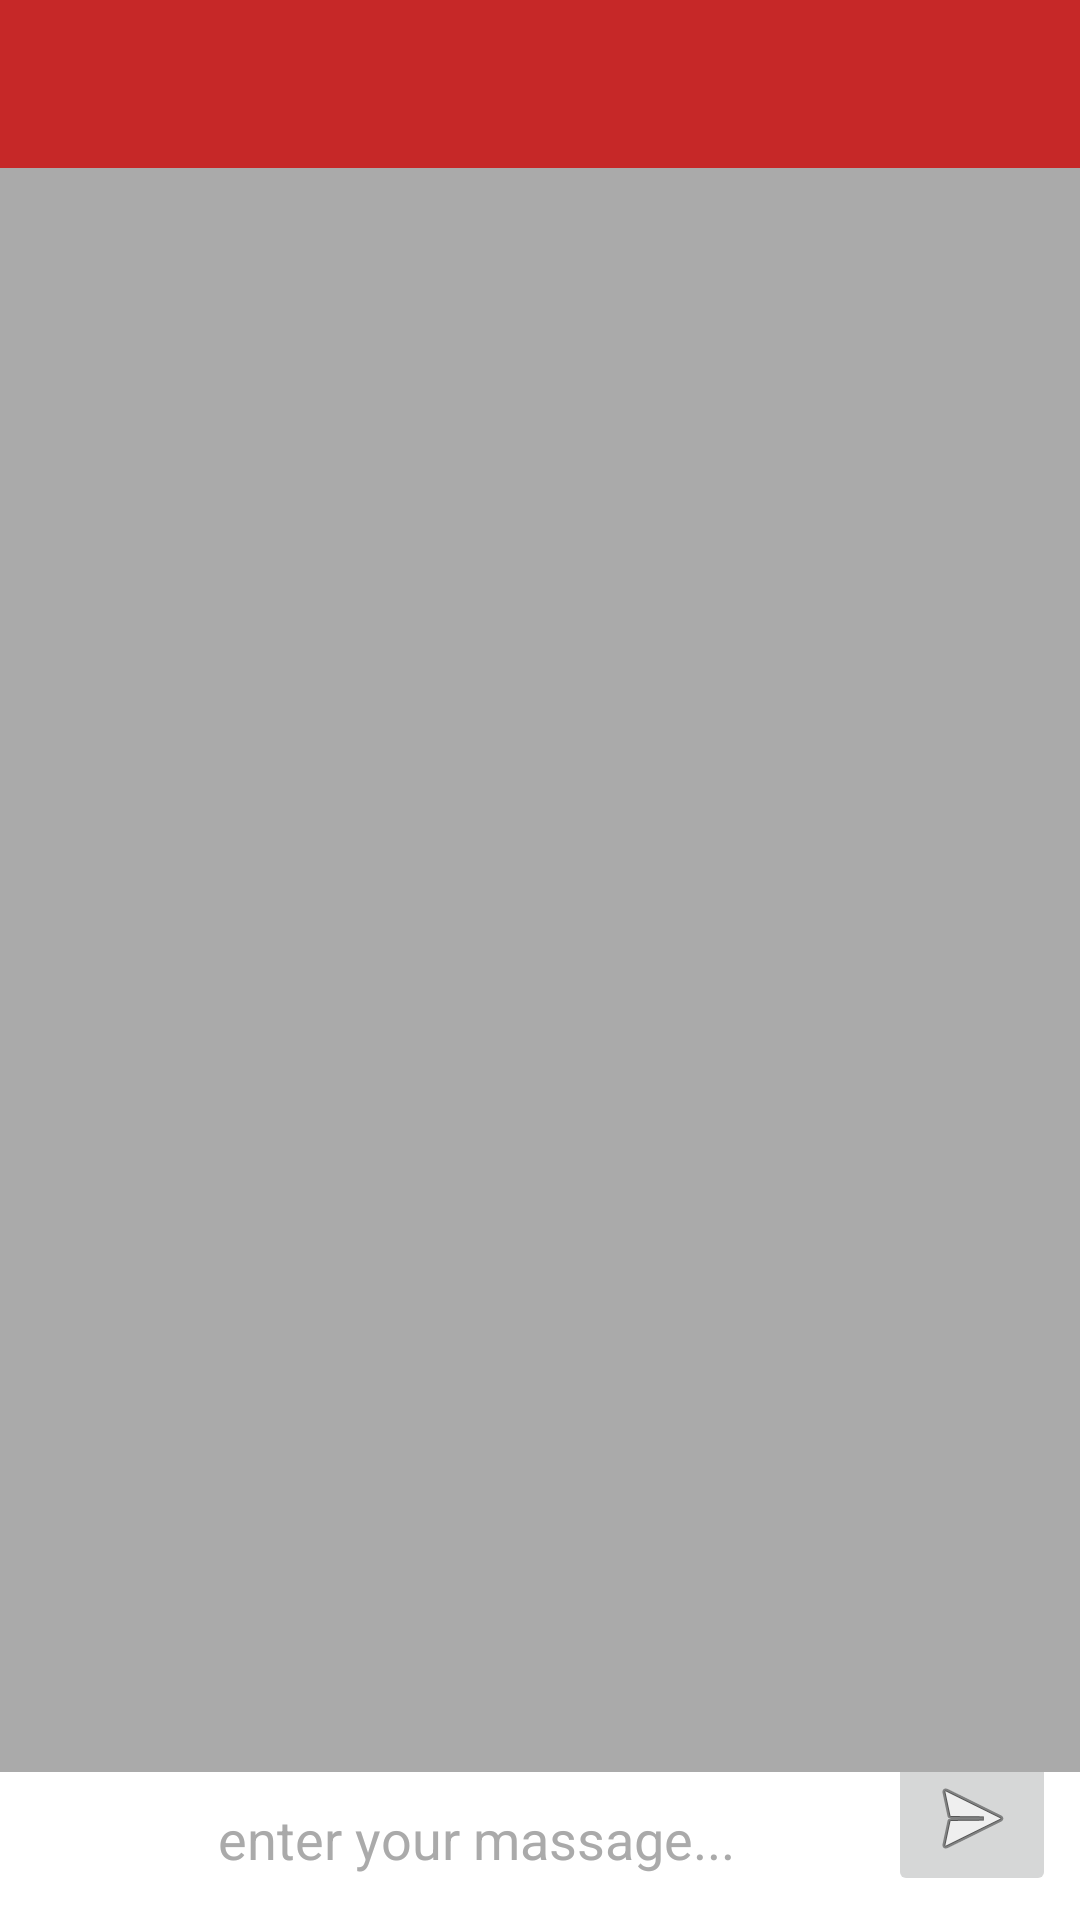

Where to tap for icons on this 1080px×1920px app screen, as point (x, y):
send: point (972, 1809)
